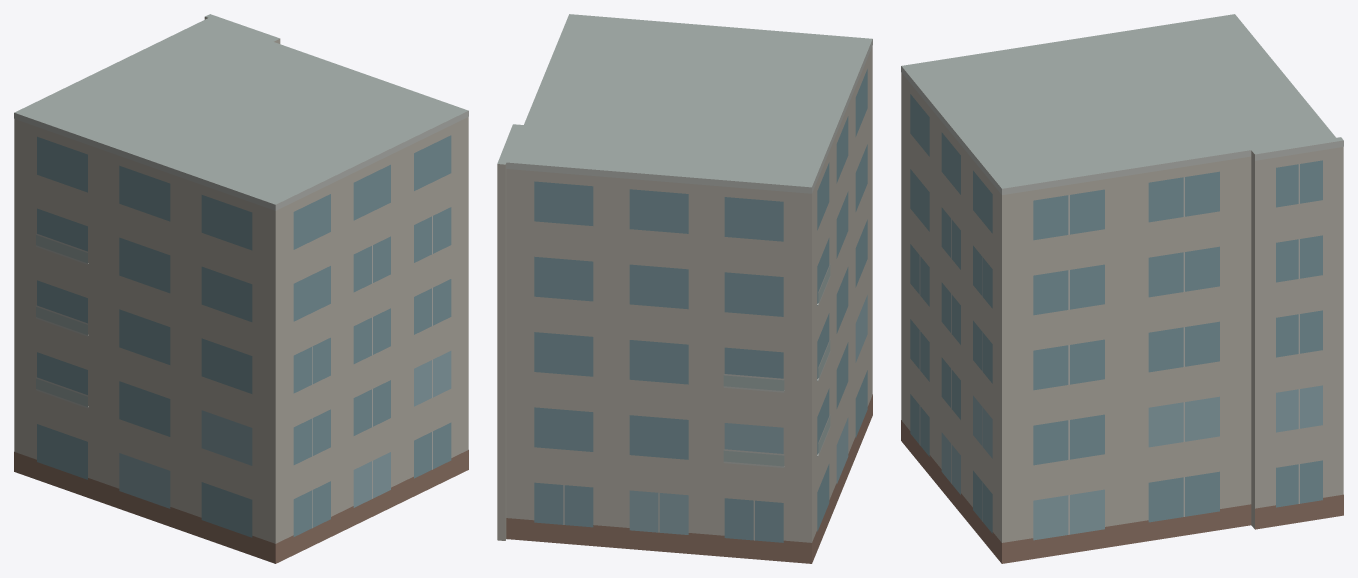
The model's file is survey-upis-32853962.glb.
3 renders of one model, left to right at view 1: azimuth 30°, elevation 25°; view 2: azimuth 150°, elevation 25°; view 3: azimuth 270°, elevation 25°, orthographic. The views are drawn at different scales.
Visible parts, largest first — view 1: survey-upis-32853962.tmp; view 2: survey-upis-32853962.tmp; view 3: survey-upis-32853962.tmp.
Boxes of the visible parts, x1,y1,x2,y2 form: survey-upis-32853962.tmp: (14, 14, 468, 563); survey-upis-32853962.tmp: (497, 14, 872, 563); survey-upis-32853962.tmp: (901, 14, 1343, 563).
Bounding box in the file's own units: 14.35 × 14.35 × 15.35.
